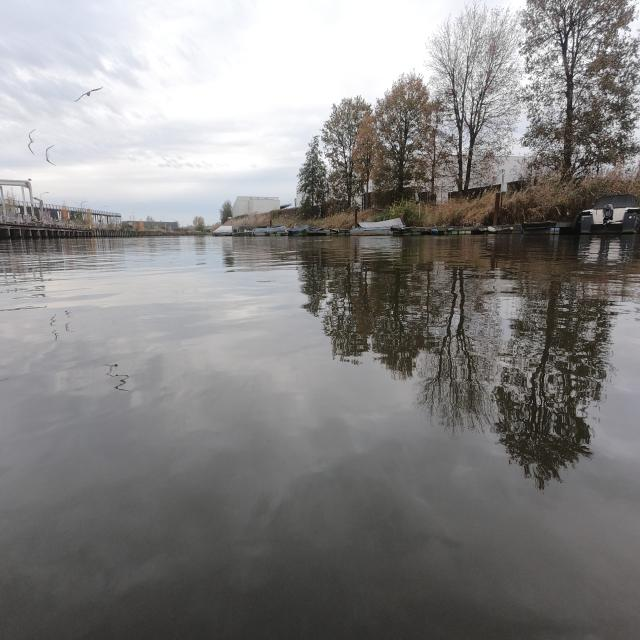boat: (573, 194, 640, 234), (350, 221, 401, 235)
reed: (498, 169, 640, 224), (357, 191, 499, 227), (272, 209, 356, 228), (234, 214, 270, 226)
sky: (2, 1, 451, 221)
tree: (520, 0, 640, 181), (427, 0, 519, 195), (372, 71, 434, 201), (322, 95, 371, 208), (427, 100, 450, 193), (298, 135, 326, 206), (354, 113, 375, 193)
water: (1, 232, 636, 639)
